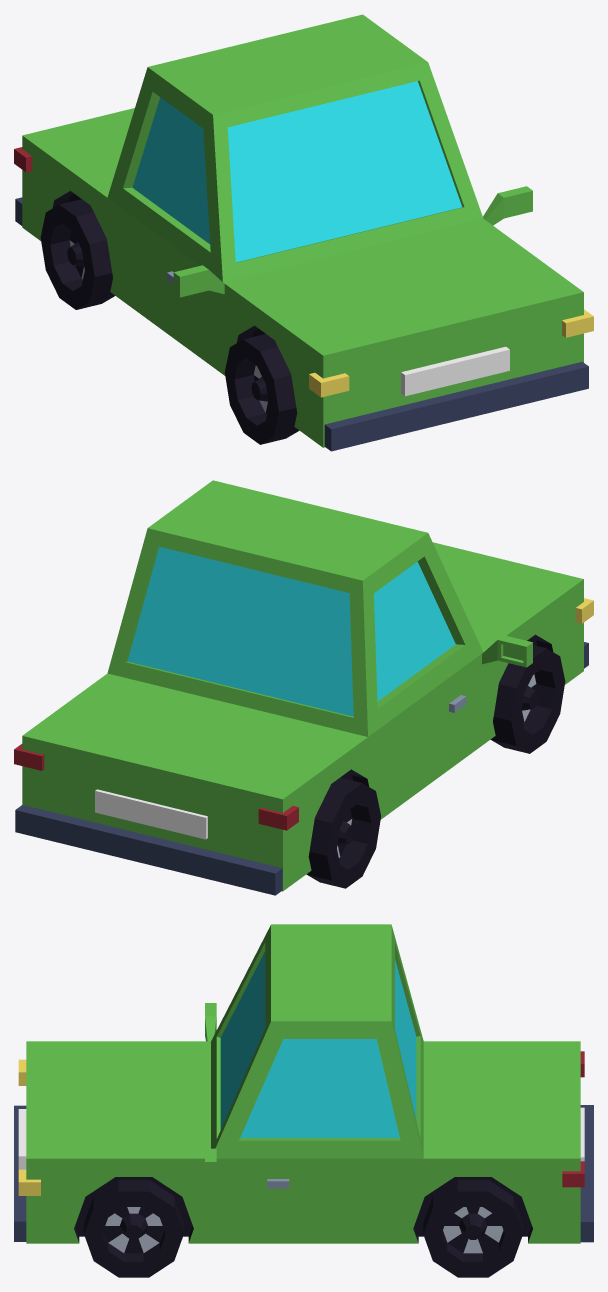
Rendered from car5.fbx.
3 renders of one model, top to bottom at view 1: azimuth 30°, elevation 25°; view 2: azimuth 150°, elevation 25°; view 3: azimuth 270°, elevation 25°, orthographic. The views are drawn at different scales.
Visible parts, largest first — view 1: Car-green; view 2: Car-green; view 3: Car-green.
Boxes of the visible parts, x1,y1,x2,y2 form: Car-green: (14,14,593,451); Car-green: (14,480,593,895); Car-green: (14,924,593,1277).
Bounding box in the file's own units: 2.71 × 1.91 × 4.18.
